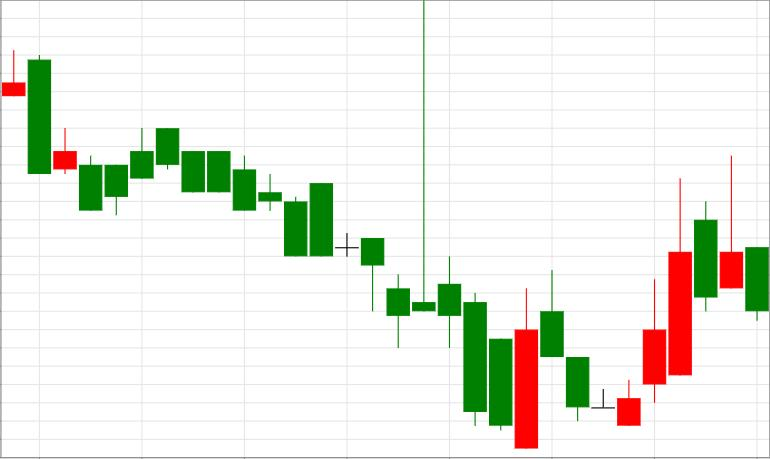bullish_engulfing_rise: (156, 0, 537, 449)
